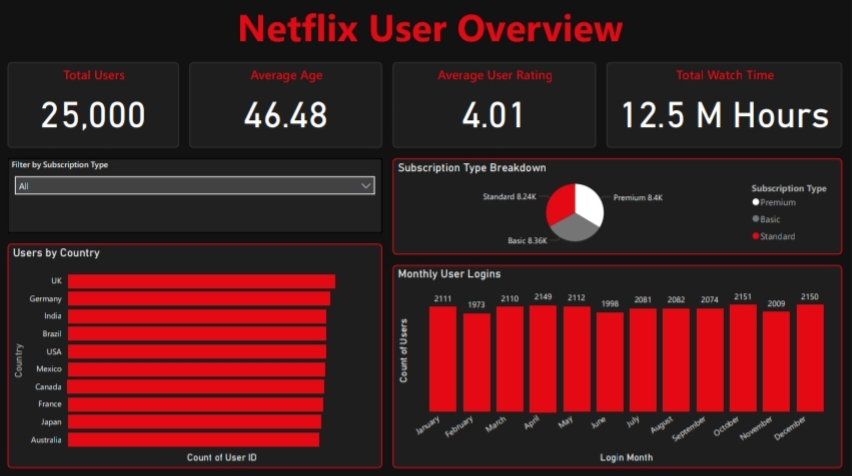

What the dashboard file says about the page in this screenshot:
{"tool":"powerbi","page":{"name":"Page 1","canvas":[1280,720],"ordinal":0},"visuals":[{"type":"textbox","box":[0,0,1280,96],"z":0},{"type":"card","title":"Total Users","fields":{"Values":["netflix_users.Total_Users"]},"box":[16,96,256,128],"z":1000},{"type":"card","title":"Total Watch Time","fields":{"Values":["netflix_users.Total_Watch_Time_M"]},"box":[912,96,352,128],"z":2000},{"type":"card","title":"Average Age","fields":{"Values":["Avg(netflix_users.Age)"]},"box":[288,96,288,128],"z":3000},{"type":"card","title":"Average User Rating","fields":{"Values":["Avg(netflix_users.User_Rating)"]},"box":[592,96,304,128],"z":4000},{"type":"clusteredBarChart","title":"Users by Country","fields":{"Category":["netflix_users.Country"],"Y":["CountNonNull(netflix_users.User_ID)"]},"box":[16,368,560,336],"z":5000},{"type":"pieChart","title":"Subscription Type Breakdown","fields":{"Category":["netflix_users.Subscription_Type"],"Y":["CountNonNull(netflix_users.User_ID)"]},"box":[592,240,672,144],"z":6000},{"type":"clusteredColumnChart","title":"Monthly User Logins","fields":{"Category":["netflix_users.Login_Month"],"Y":["CountNonNull(netflix_users.User_ID)"]},"box":[592,400,672,304],"z":7000},{"type":"slicer","title":"Filter by Subscription Type","fields":{"Values":["netflix_users.Subscription_Type"]},"box":[16,240,560,112],"z":8000}]}

Visuals, with their boxes in screenshot pixels (x1, y1, x2, y2), scaled from the page's 1280x720 canvas onto the 852x476 screenshot:
textbox: x1=0, y1=0, x2=851, y2=63
"Total Users" card: x1=11, y1=63, x2=181, y2=148
"Total Watch Time" card: x1=607, y1=63, x2=841, y2=148
"Average Age" card: x1=192, y1=63, x2=383, y2=148
"Average User Rating" card: x1=394, y1=63, x2=596, y2=148
"Users by Country" clusteredBarChart: x1=11, y1=243, x2=383, y2=465
"Subscription Type Breakdown" pieChart: x1=394, y1=159, x2=841, y2=254
"Monthly User Logins" clusteredColumnChart: x1=394, y1=264, x2=841, y2=465
"Filter by Subscription Type" slicer: x1=11, y1=159, x2=383, y2=233
